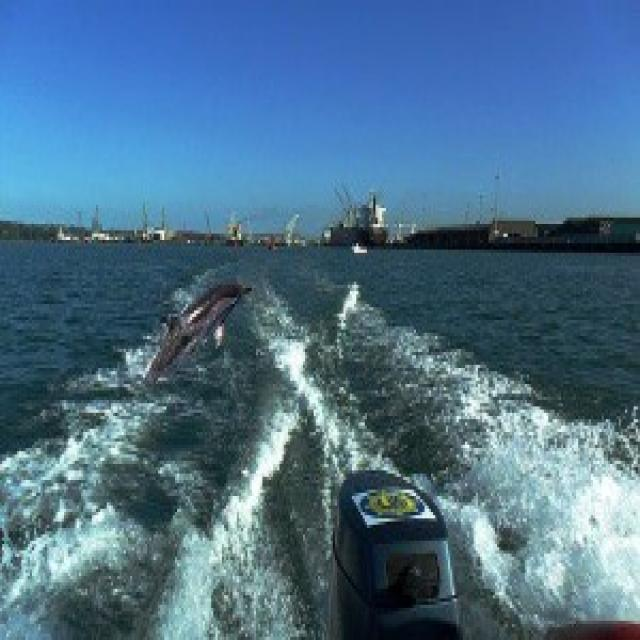Dolphin: (132, 279, 262, 400)
